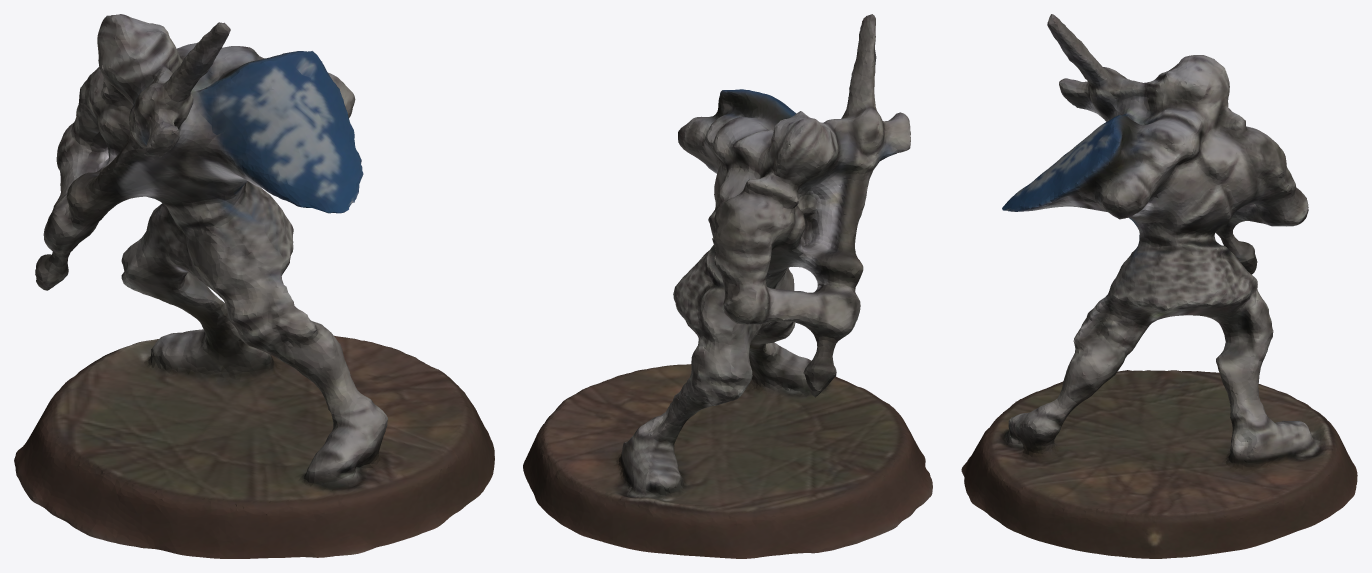
Rendered from KnightsOfWeston1.obj.
The picture shows the model from 3 angles, left to right: view 1: azimuth 30°, elevation 25°; view 2: azimuth 150°, elevation 25°; view 3: azimuth 270°, elevation 25°; orthographic projection. The views are drawn at different scales.
Visible parts, largest first — view 1: Mesh_KnightsOfWeston1.003; view 2: Mesh_KnightsOfWeston1.003; view 3: Mesh_KnightsOfWeston1.003.
Boxes of the visible parts, bbox=[...] form: Mesh_KnightsOfWeston1.003: bbox=[14, 14, 494, 558]; Mesh_KnightsOfWeston1.003: bbox=[523, 14, 932, 558]; Mesh_KnightsOfWeston1.003: bbox=[961, 14, 1357, 558].
Bounding box in the file's own units: 1.17 × 1.36 × 1.16.
Materials: 1 (1 with a texture image).
